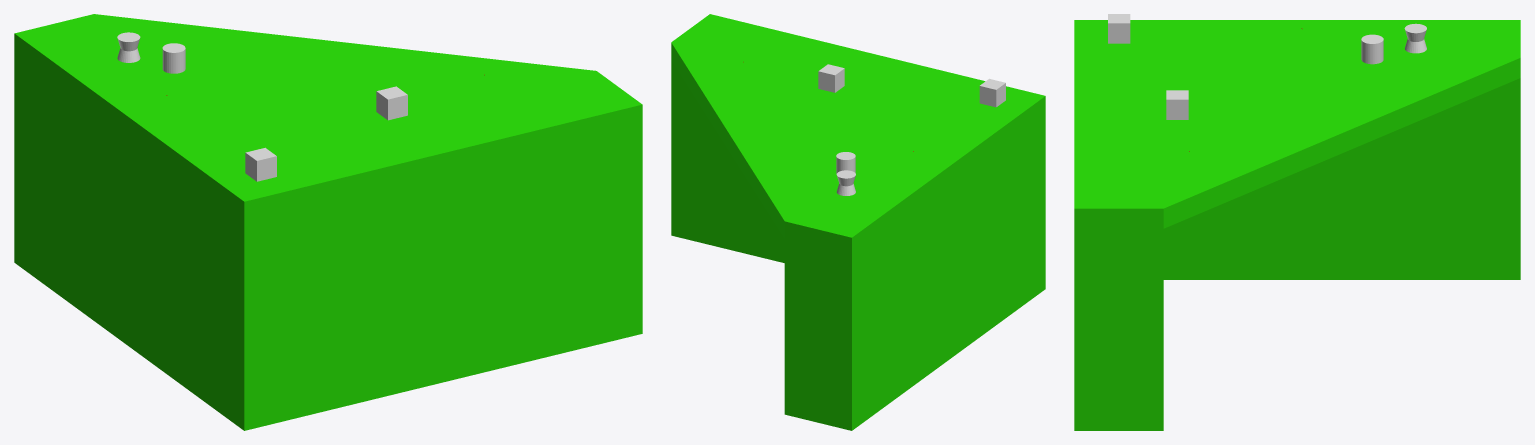
File: counter.glb
The picture shows the model from 3 angles, left to right: view 1: azimuth 30°, elevation 25°; view 2: azimuth 150°, elevation 25°; view 3: azimuth 270°, elevation 25°; orthographic projection. The views are drawn at different scales.
Visible parts, largest first — view 1: Counter, Cube, 3D Square, Cylinder1, Cylinder2; view 2: Counter, Cube, 3D Square, Cylinder2, Cylinder1; view 3: Counter, Cube, 3D Square, Cylinder1, Cylinder2.
Part boxes in pixels (x1,y1,x2,y2): Counter: (14, 14, 642, 430); Cube: (245, 147, 276, 181); 3D Square: (376, 86, 407, 120); Cylinder1: (162, 43, 185, 73); Cylinder2: (117, 32, 140, 62); Counter: (671, 14, 1045, 430); Cube: (979, 78, 1005, 107); 3D Square: (818, 64, 844, 92); Cylinder2: (836, 170, 855, 195); Cylinder1: (836, 152, 855, 173); Counter: (1074, 20, 1520, 430); Cube: (1108, 14, 1130, 43); 3D Square: (1166, 90, 1188, 119); Cylinder1: (1361, 34, 1383, 64); Cylinder2: (1404, 23, 1426, 53).
Size of what is drawn, in the model's own units: 1 by 0.6 by 1.
